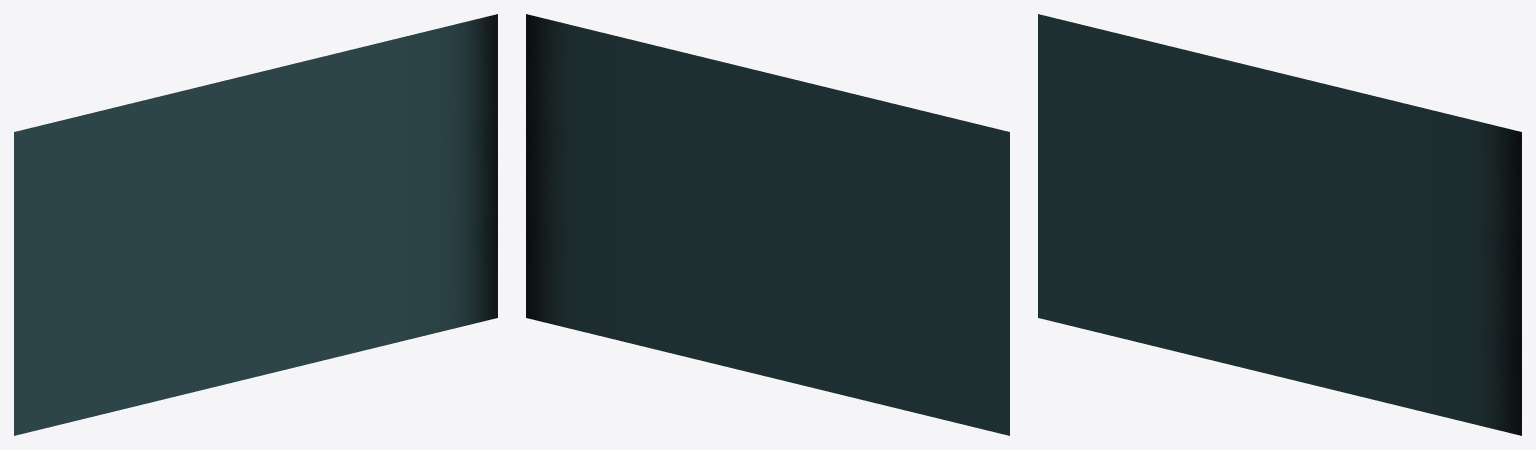
File: tdr_h_watersurface_a.obj
The picture shows the model from 3 angles, left to right: view 1: azimuth 30°, elevation 25°; view 2: azimuth 150°, elevation 25°; view 3: azimuth 330°, elevation 25°; orthographic projection.
Visible parts, largest first — view 1: Default_TRLE_Floor.000_Cube.022; view 2: Default_TRLE_Floor.000_Cube.022; view 3: Default_TRLE_Floor.000_Cube.022.
Part boxes in pixels (left/top/right/bottom): Default_TRLE_Floor.000_Cube.022: left=14, top=14, right=497, bottom=435; Default_TRLE_Floor.000_Cube.022: left=526, top=14, right=1009, bottom=435; Default_TRLE_Floor.000_Cube.022: left=1038, top=14, right=1521, bottom=435.
Size of the model in its own units: 5120 by 3072 by 0.
Materials: 2 (2 with a texture image).
